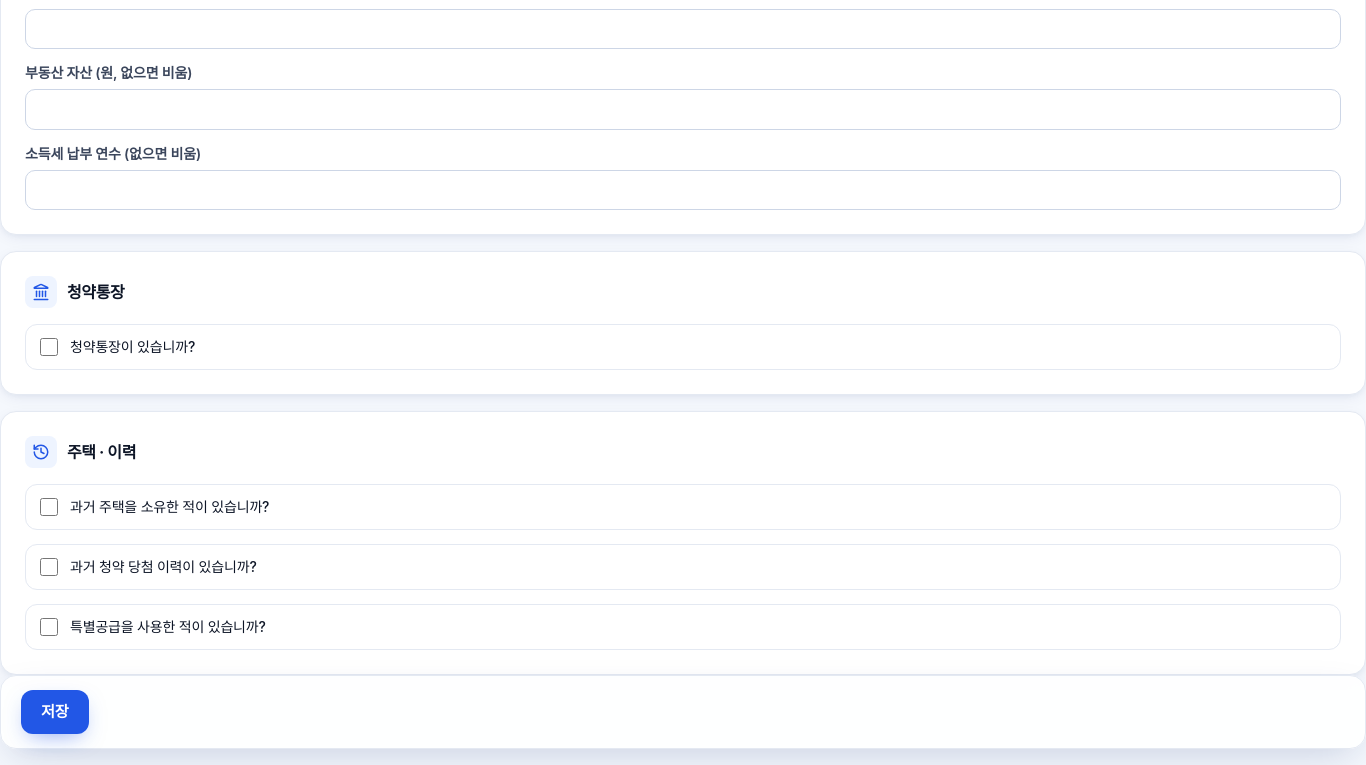
Test case: ProfileForm › 과거 주택 소유 체크 시 무주택(처분일) 칸이 나타난다
The image size is (1366, 765).
(page scrolled)
expect the field labelled "무주택 시작일 (주택 처분일, 아직 보유 중이면 비움)" is not shown: met
What coordinates should you click on to do the following:
click the checkbox labelled "과거 주택을 소유한 적이 있습니까?"
I would click on:
 (49, 507)
Its box is [40,498,58,516].
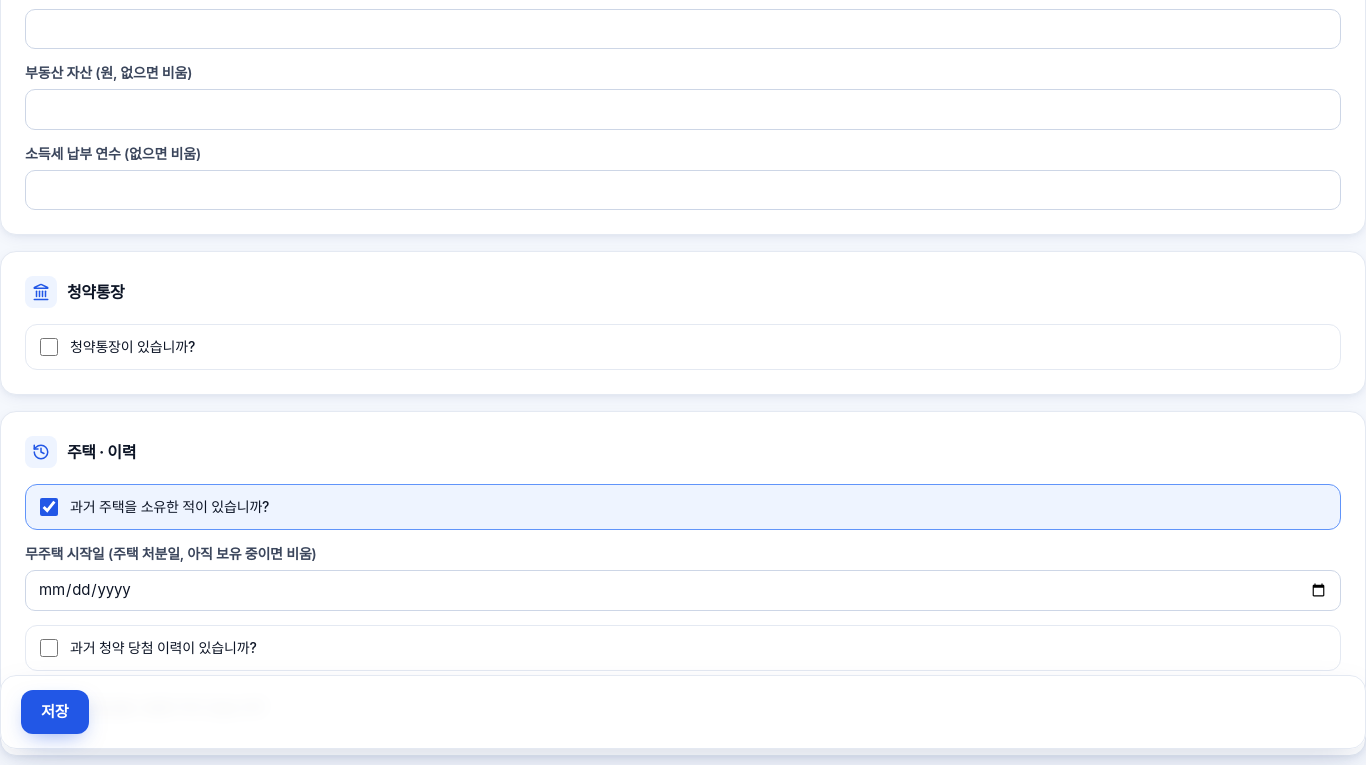
expect the date field labelled "무주택 시작일 (주택 처분일, 아직 보유 중이면 비움)" is shown: met, box [25,570,1341,610]
